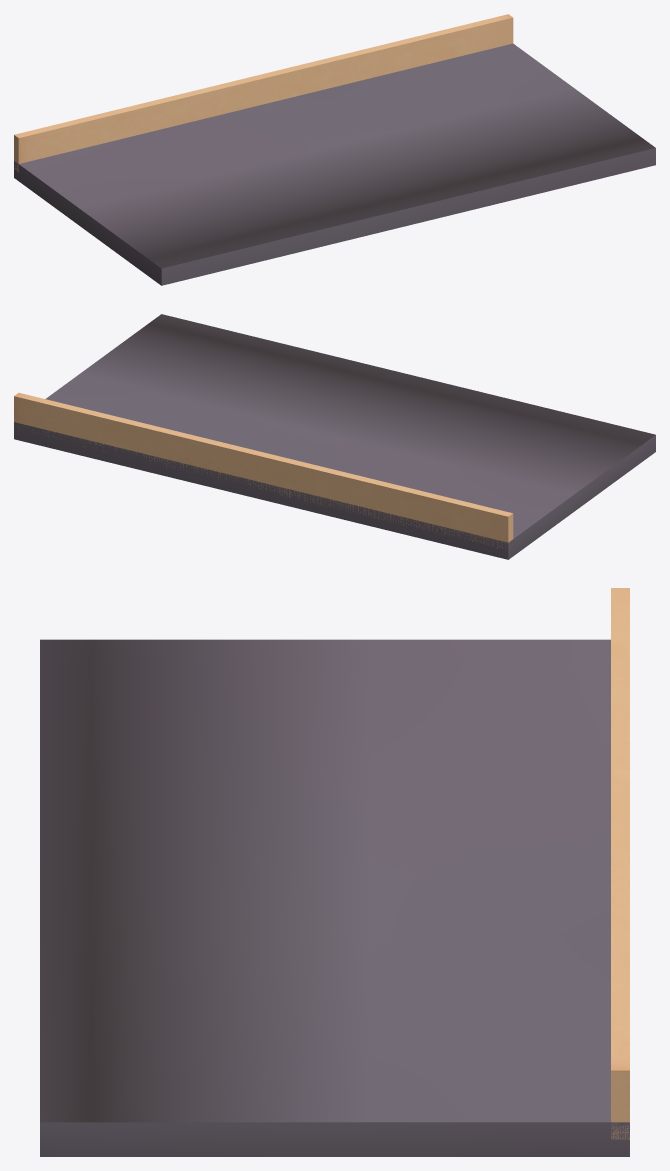
The model's file is Kitchen_Countertop.fbx.
3 views of the same model, one above another, from view 1: azimuth 30°, elevation 25°; view 2: azimuth 150°, elevation 25°; view 3: azimuth 270°, elevation 25° (orthographic). The views are drawn at different scales.
Visible parts, largest first — view 1: Kitchen_Countertop; view 2: Kitchen_Countertop; view 3: Kitchen_Countertop.
Boxes of the visible parts, box(x1,y1,x2,y2) form: Kitchen_Countertop: box(14, 14, 655, 285); Kitchen_Countertop: box(14, 314, 655, 559); Kitchen_Countertop: box(40, 588, 629, 1156).
Size of the model in its own units: 1.2 by 0.1 by 0.62.
